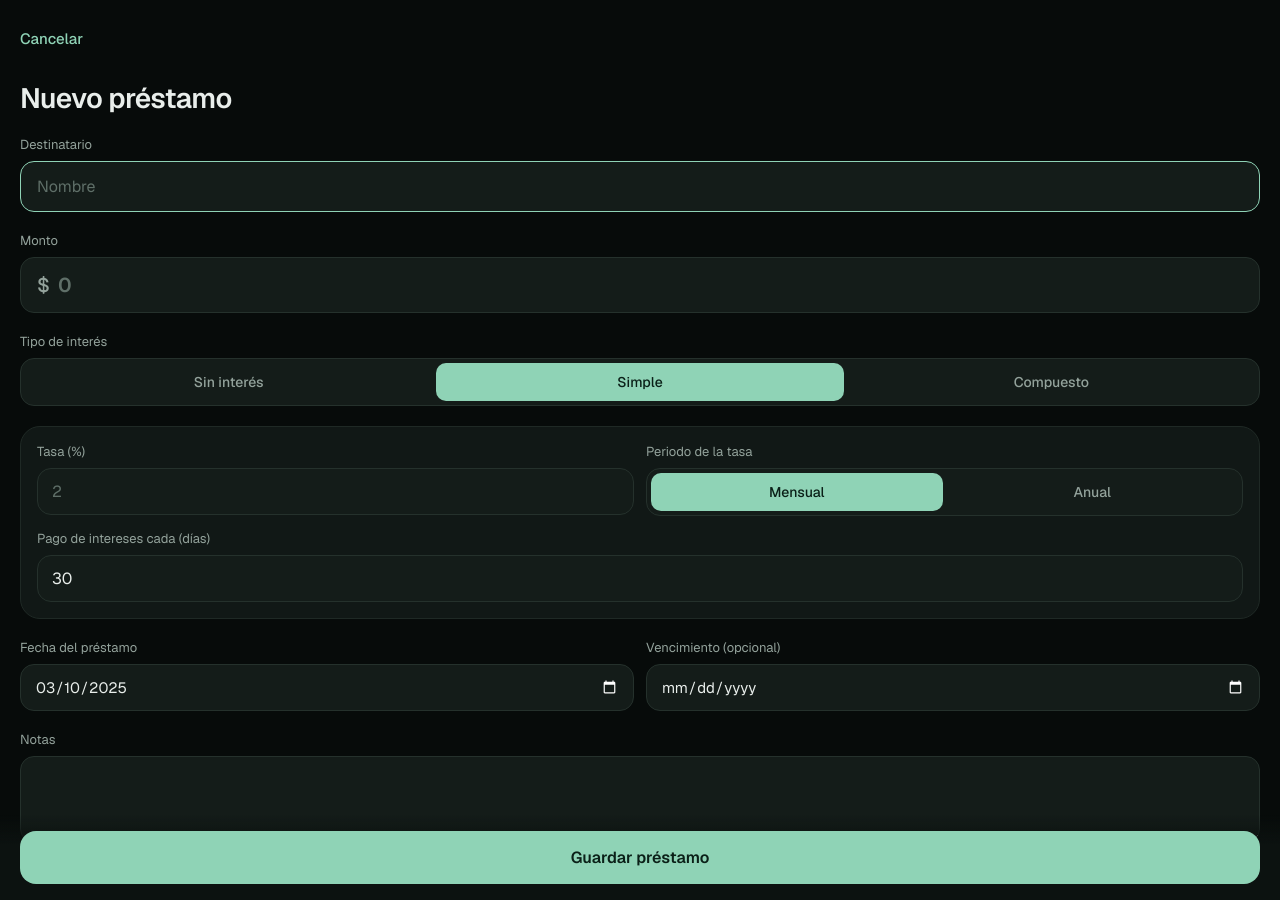
Test: LoanFormPage › muestra el error de validación y no guarda
Click the button "Guardar préstamo" at (640, 858), box [20,831,1260,884]
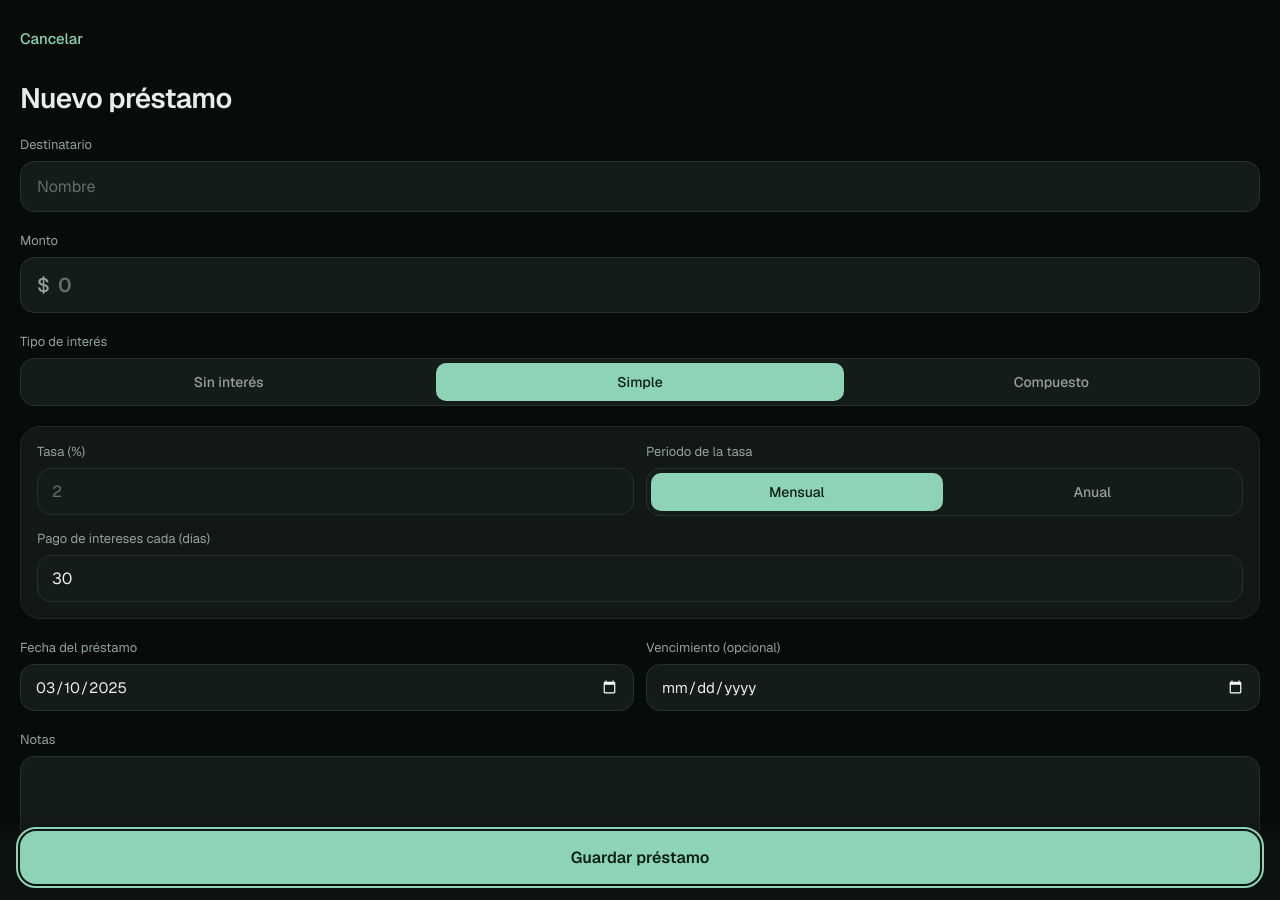
Expected: the message reads "Escribe a quién le prestas.", [20,863,186,881]
